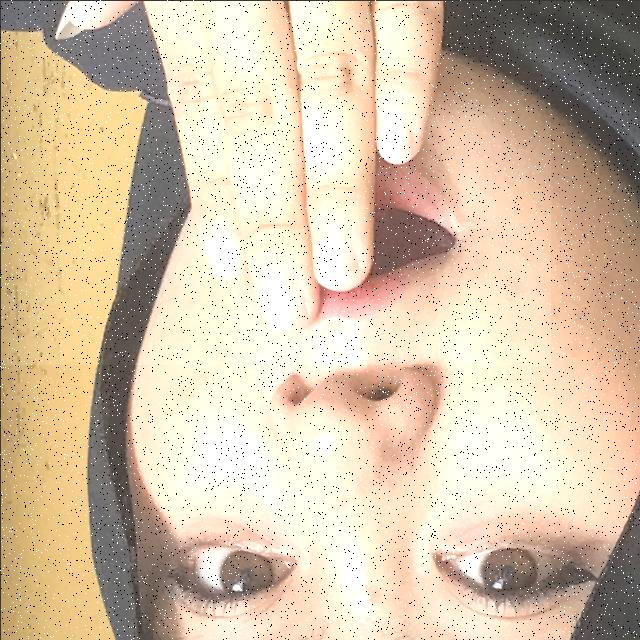ngantuk: (0, 0, 550, 364)
